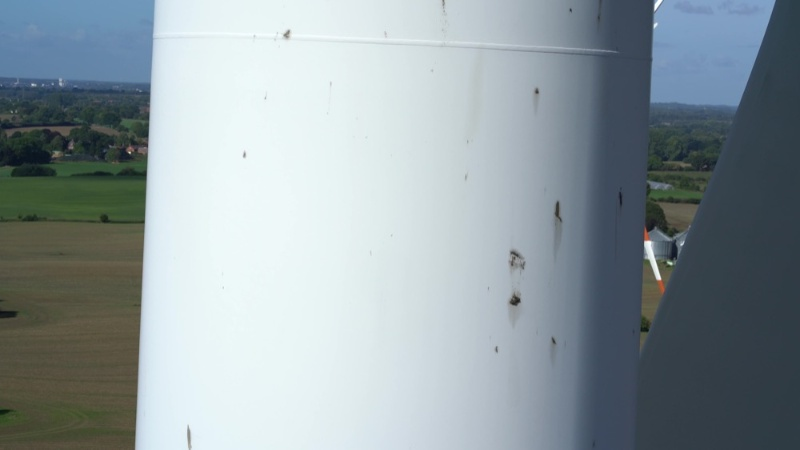weldseam: (151, 26, 656, 74)
